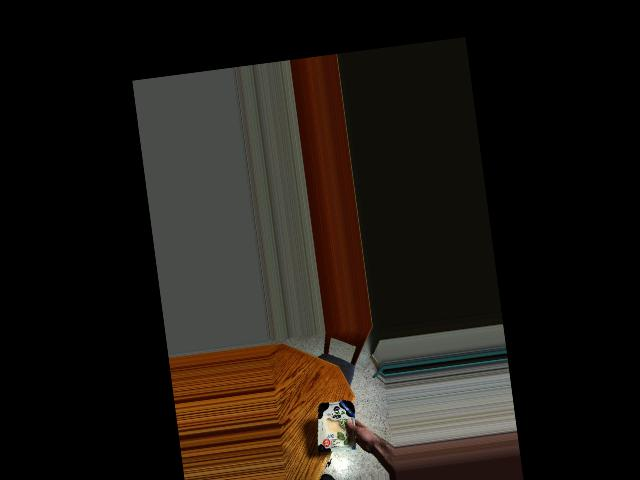cheese: (317, 392, 363, 462)
